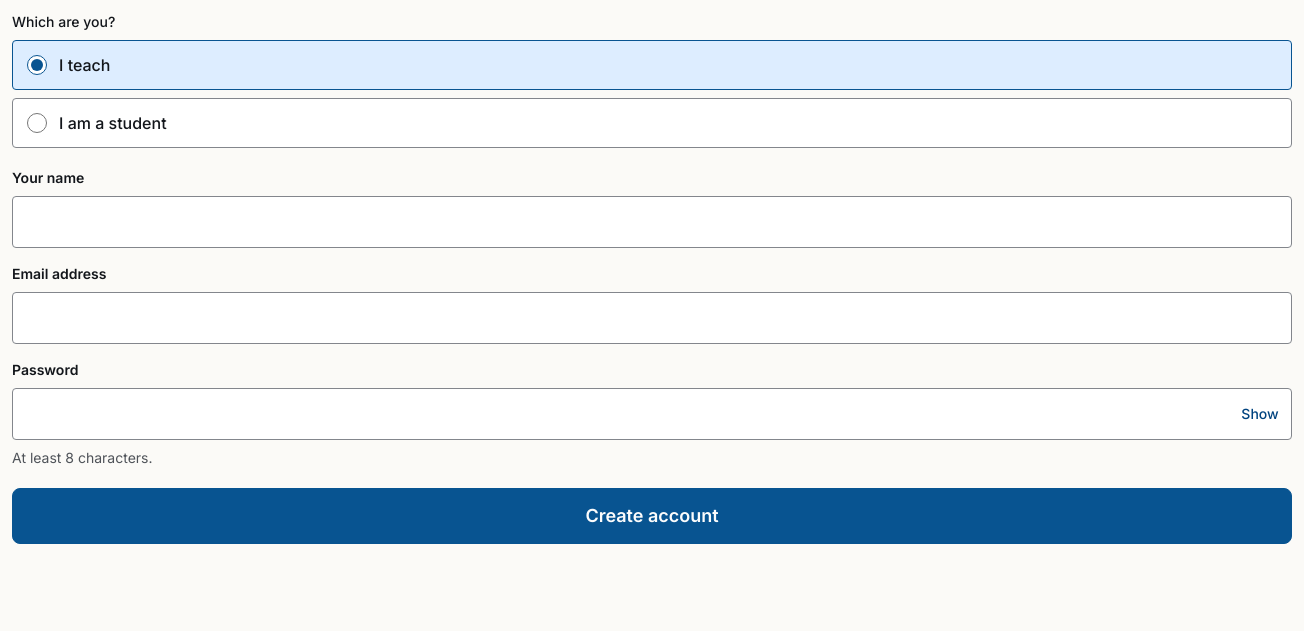
Scenario: SignUpForm (#361) › says an address has an account, with the way to sign in, and nothing more
In the field labelled "Your name": (652, 222) [12,196,1292,248], type "Ada Lovelace"
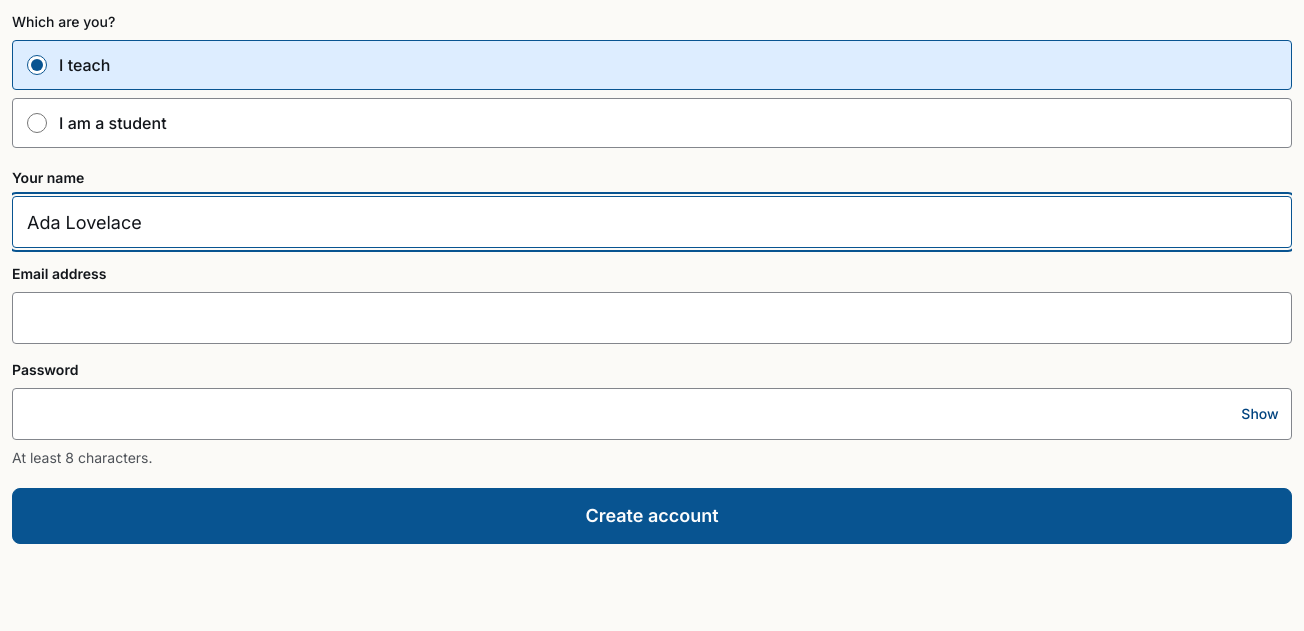
In the field labelled "Email address": (652, 318) [12,292,1292,344], type "ada@school.edu"
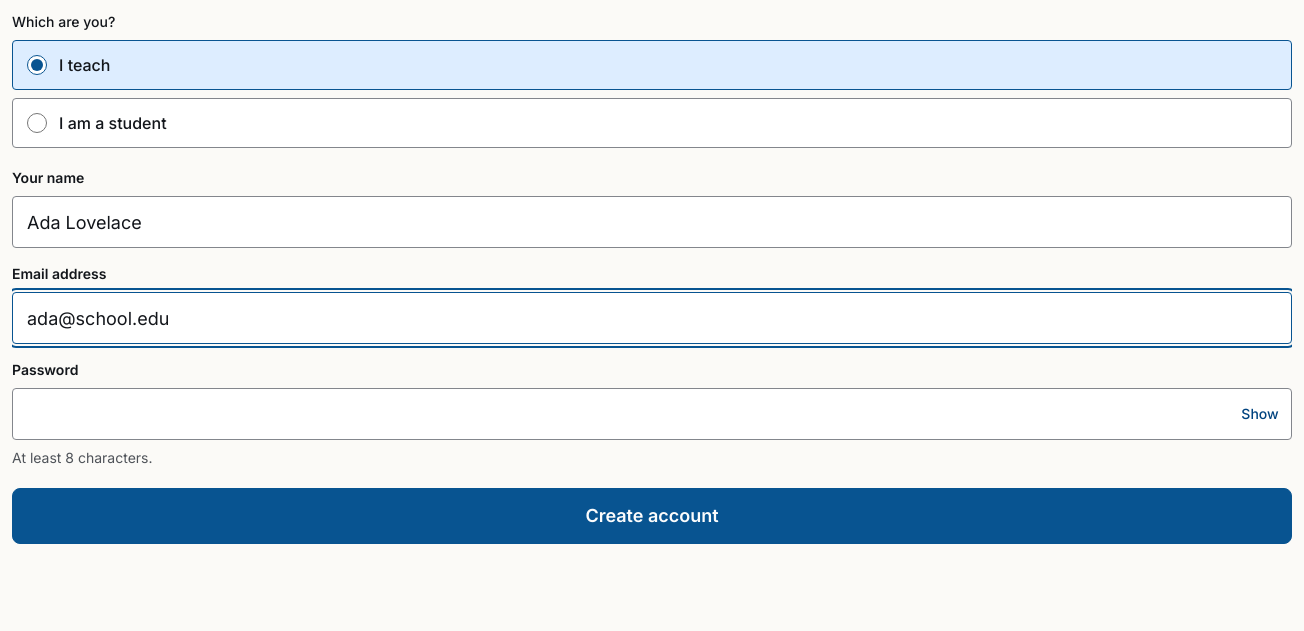
In the password field labelled "Password": (652, 414) [12,388,1292,440], type "correct horse battery"
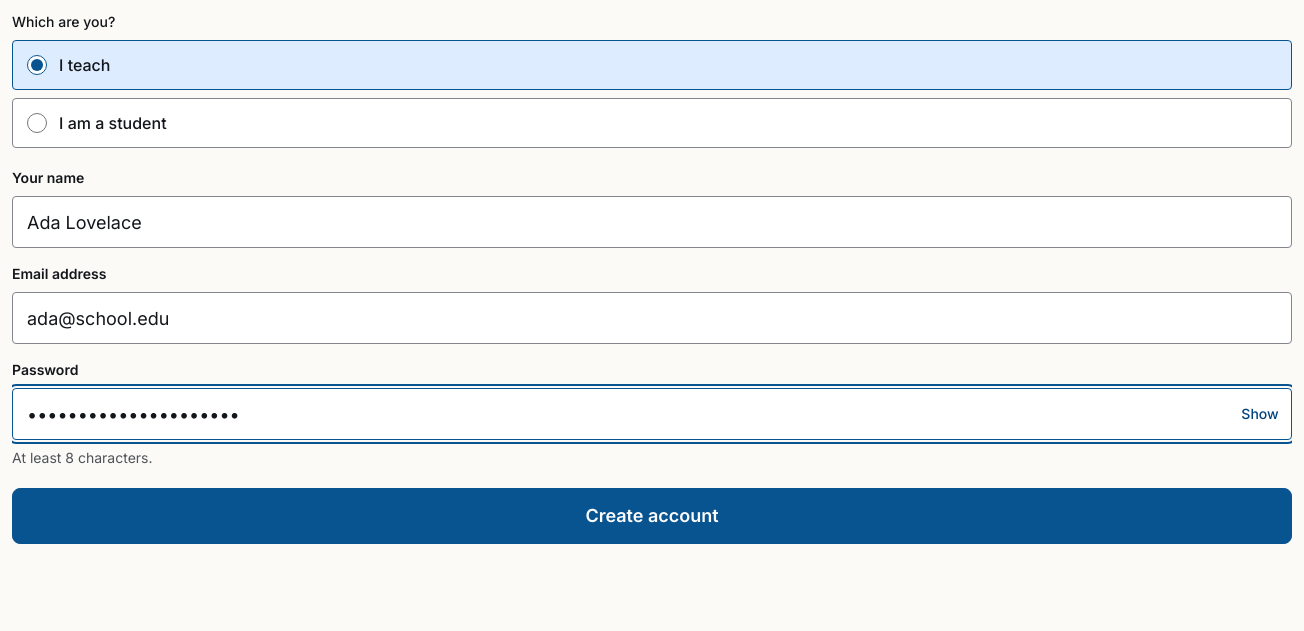
Click the button "Create account": (652, 516) [12,488,1292,544]
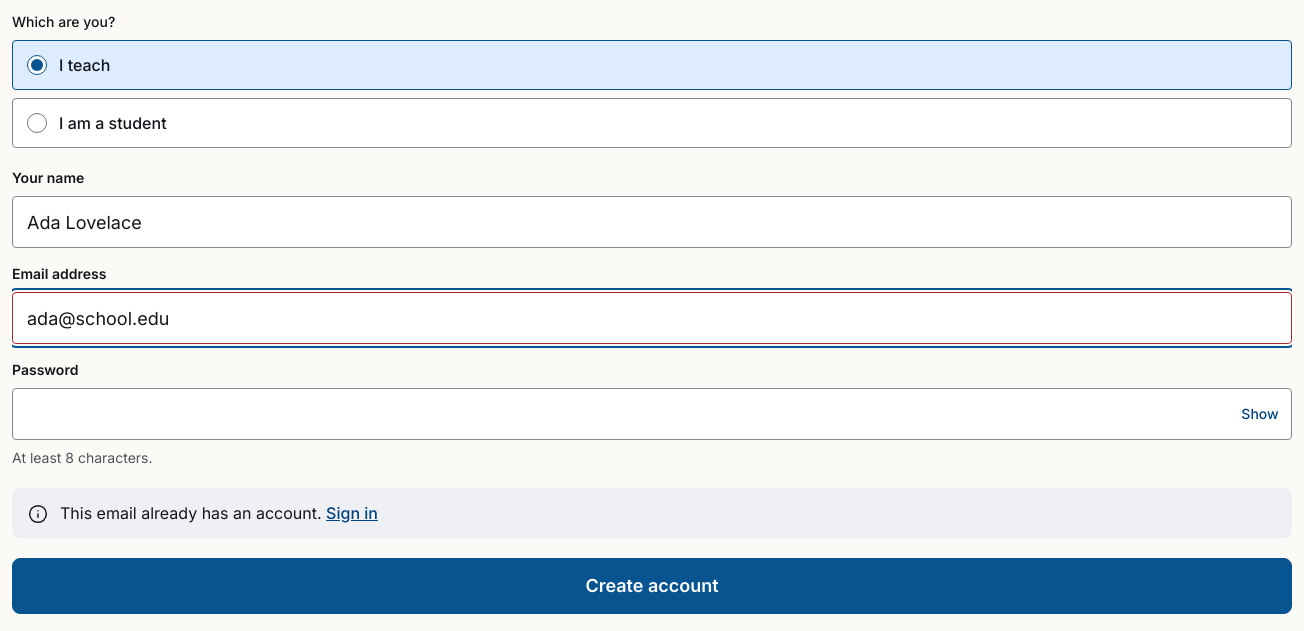
Expected: the message reads "This email already has an account. Sign in", [12,488,1292,538]
